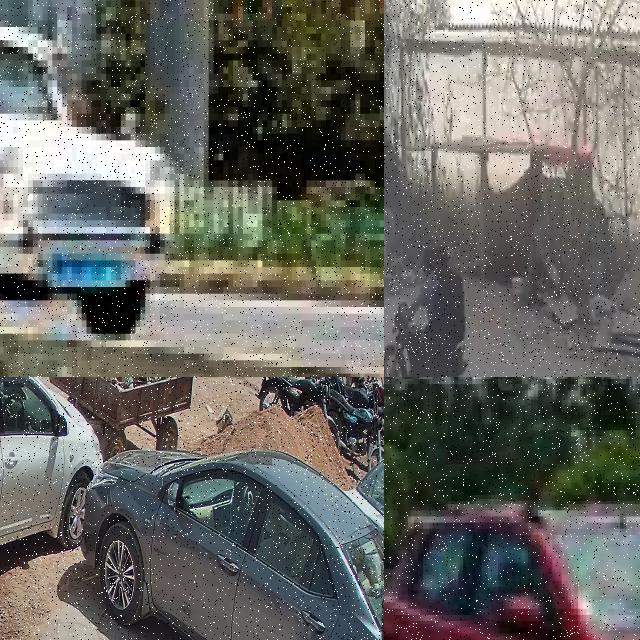bike: (384, 301, 466, 377), (328, 383, 384, 456), (255, 377, 328, 418), (327, 377, 378, 411), (345, 377, 378, 389)
car: (84, 450, 384, 640), (384, 436, 640, 640), (0, 377, 101, 613), (351, 457, 384, 576)
